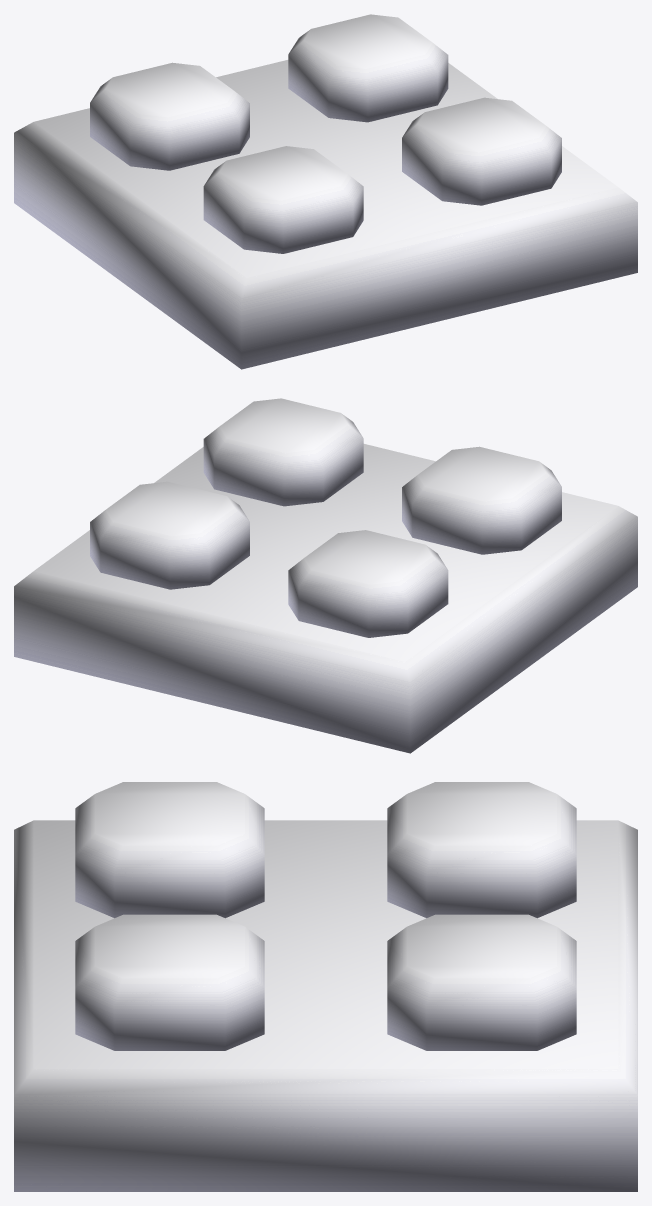
Rendered from bevel-hq-plate-2x2.glb.
3 renders of one model, top to bottom at view 1: azimuth 30°, elevation 25°; view 2: azimuth 150°, elevation 25°; view 3: azimuth 270°, elevation 25°, orthographic. The views are drawn at different scales.
Parts seen in each view (by area): view 1: bevel-hq-plate-2x2; view 2: bevel-hq-plate-2x2; view 3: bevel-hq-plate-2x2.
Part boxes in pixels (<box>): bevel-hq-plate-2x2: <box>14,14,637,369</box>; bevel-hq-plate-2x2: <box>14,398,637,753</box>; bevel-hq-plate-2x2: <box>14,782,637,1191</box>.
Bounding box in the file's own units: 0.159 × 0.05 × 0.158.
Materials: 1 (1 with a texture image).
